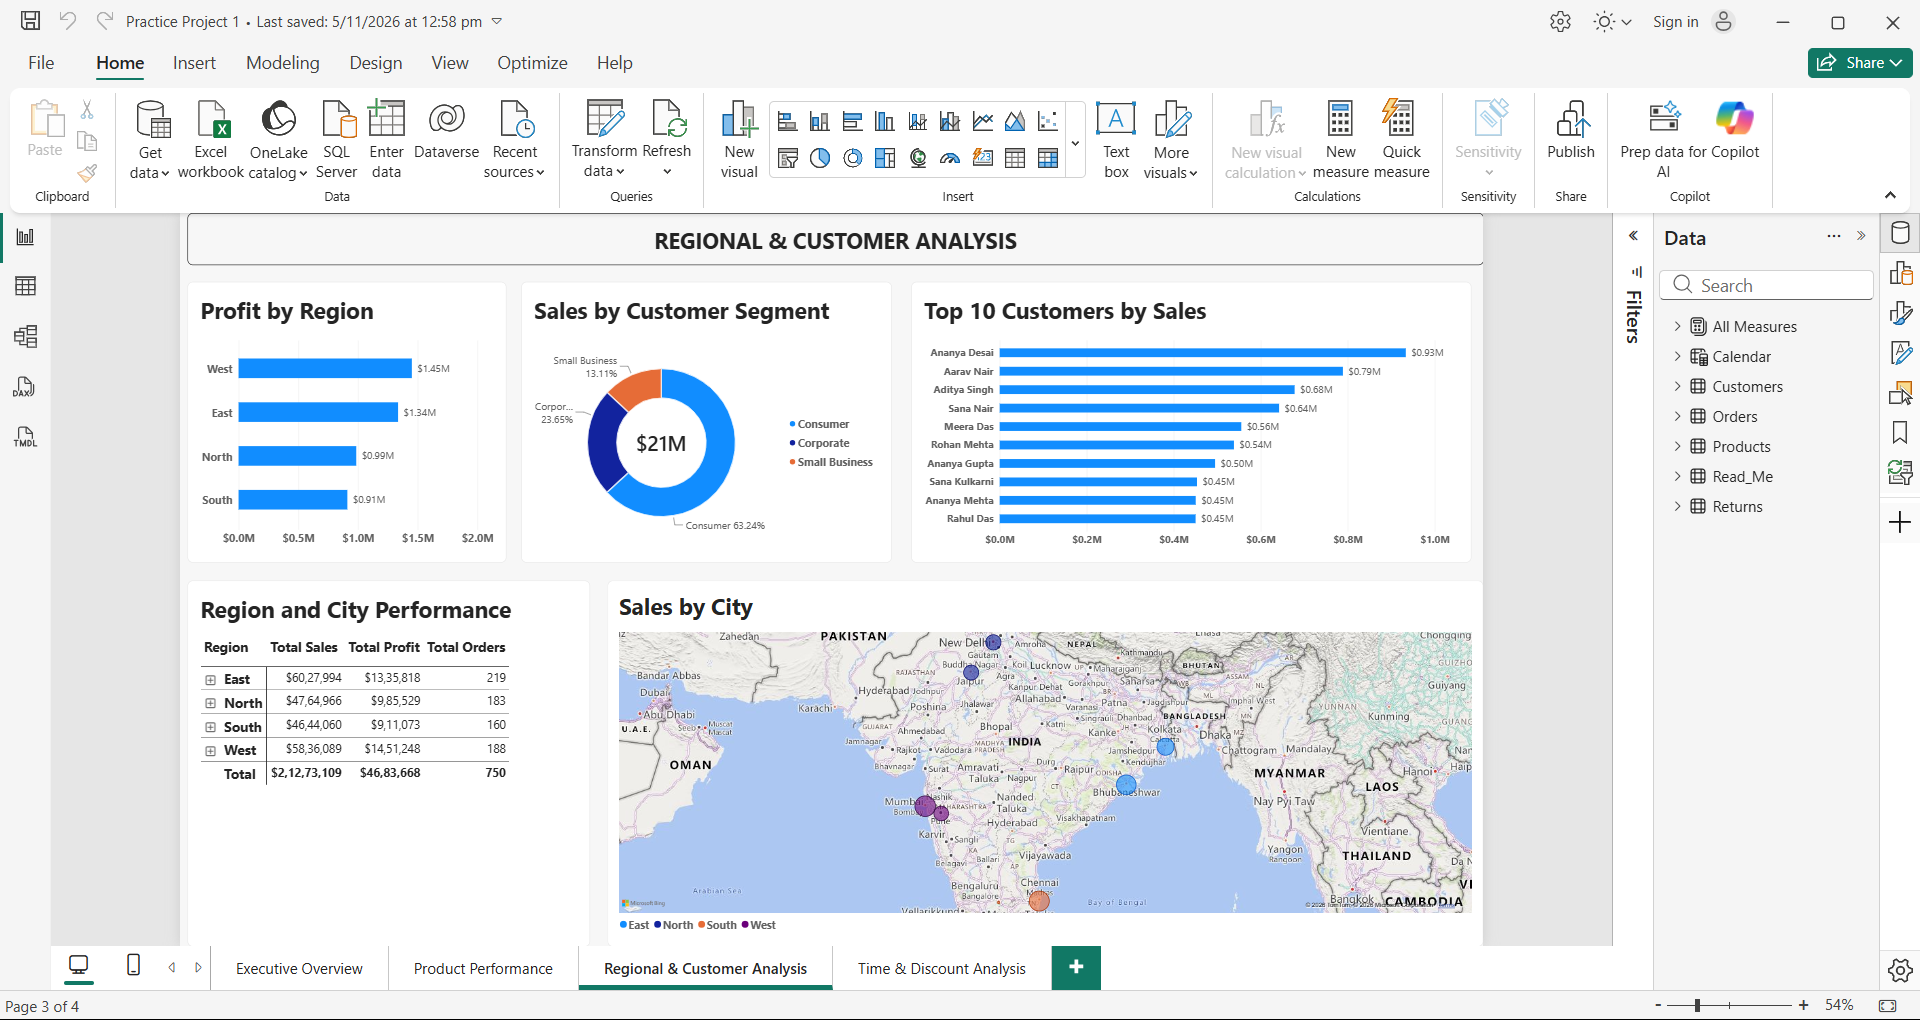

What the dashboard file says about the page in this screenshot:
{"tool":"powerbi","page":{"name":"Regional & Customer Analysis","canvas":[1920,1080],"ordinal":2},"visuals":[{"type":"textbox","box":[10.8,0,1908.8,77],"z":0},{"type":"map","title":"Sales by City","fields":{"Category":["Orders.City"],"Series":["Orders.Region"],"Size":["All Measures.Total Sales"]},"box":[629.8,541,1289.8,538.9],"z":1000},{"type":"clusteredBarChart","title":"Profit by Region","fields":{"Category":["Orders.Region"],"Y":["All Measures.Total Profit"]},"box":[10.8,101.7,469.6,413.4],"z":2000},{"type":"donutChart","title":"Sales by Customer Segment","fields":{"Category":["Customers.Segment"],"Y":["All Measures.Total Sales"]},"box":[502.1,101.7,545.4,413.4],"z":3000},{"type":"clusteredBarChart","title":"Top 10 Customers by Sales","fields":{"Category":["Customers.CustomerName"],"Y":["All Measures.Total Sales"]},"box":[1075.9,101.4,824.9,413.8],"z":4000},{"type":"pivotTable","title":"Region and City Performance","fields":{"Rows":["Orders.Region","Orders.City"],"Values":["All Measures.Total Sales","All Measures.Total Profit","All Measures.Total Orders"]},"box":[10.8,541,593,538.9],"z":5000}]}

Visuals, with their boxes on the page's 1920x1080 design canvas (x1, y1, x2, y2). These are canvas units, not pixel positions in the 1920x1020 screenshot, which may show the page scaled, cropped or inside an application window:
textbox: <bbox>11, 0, 1920, 77</bbox>
"Sales by City" map: <bbox>630, 541, 1920, 1080</bbox>
"Profit by Region" clusteredBarChart: <bbox>11, 102, 480, 515</bbox>
"Sales by Customer Segment" donutChart: <bbox>502, 102, 1048, 515</bbox>
"Top 10 Customers by Sales" clusteredBarChart: <bbox>1076, 101, 1901, 515</bbox>
"Region and City Performance" pivotTable: <bbox>11, 541, 604, 1080</bbox>
